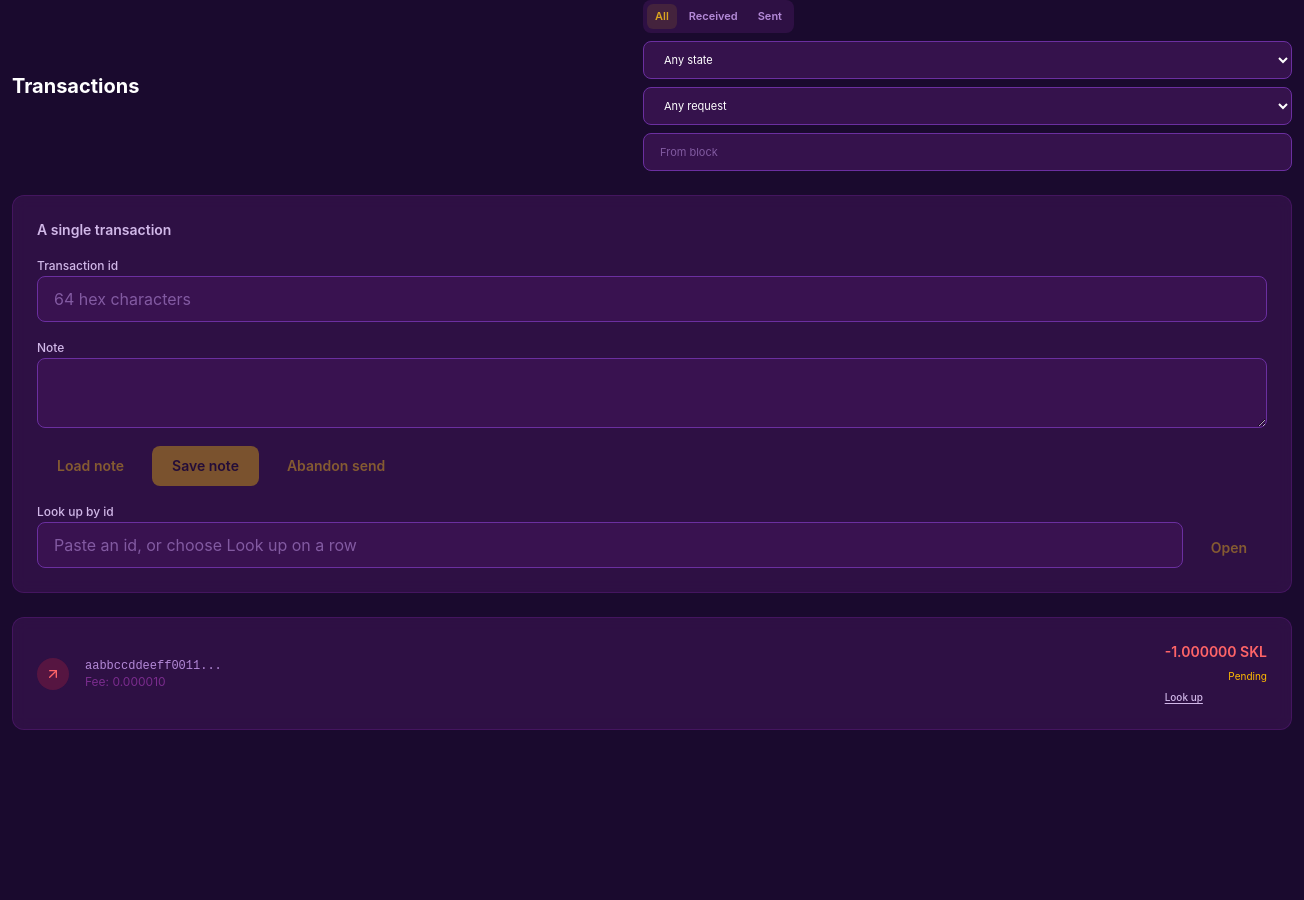
Test: Transactions › hides the previous rows while a new filter is in flight, then says when nothing matches
The width and height of the screenshot is (1304, 900).
Click the tab "Received" at (713, 16), box [681,4,746,28]
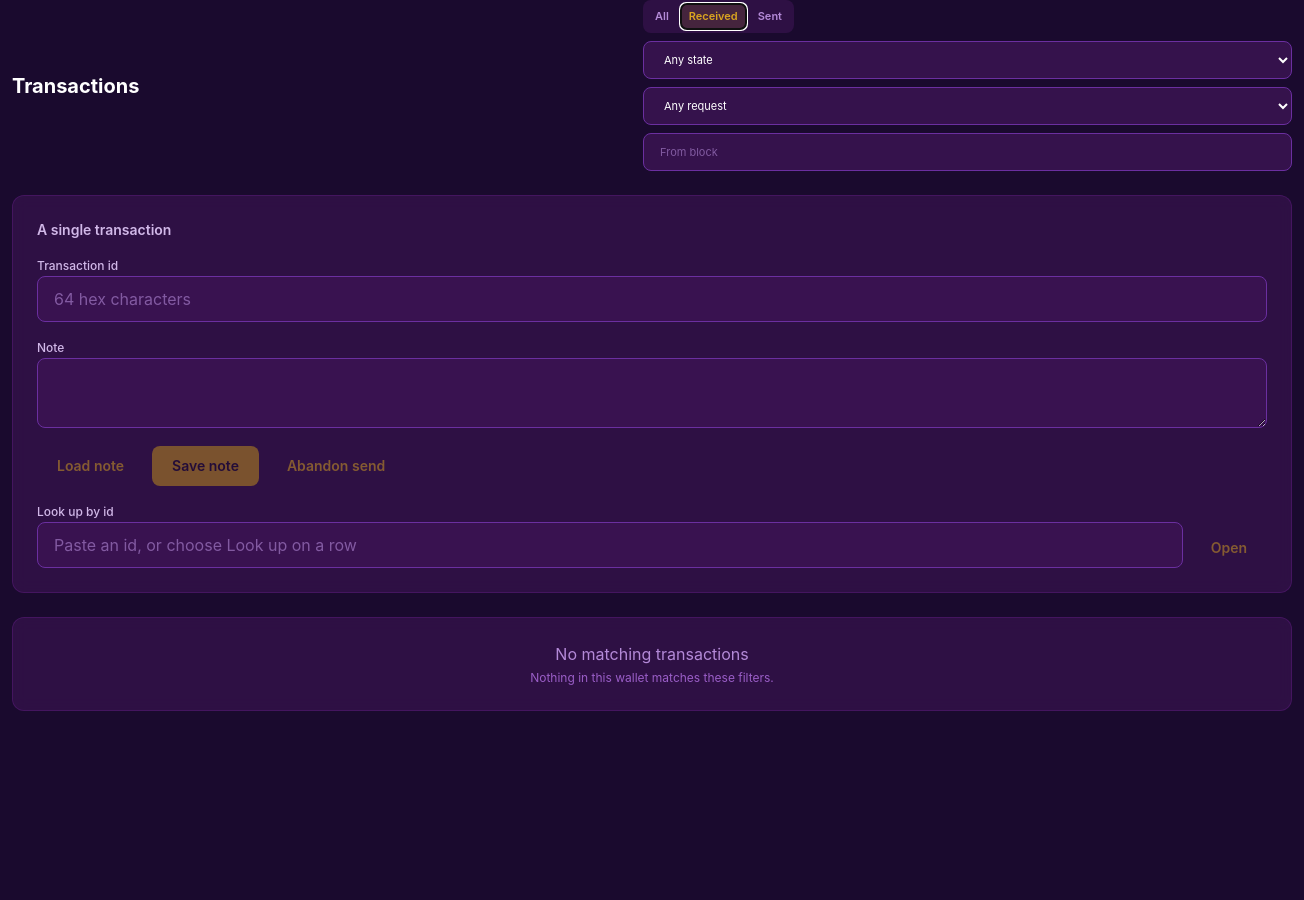
Check: the text "No matching transactions" is shown, box [555,644,749,664]
